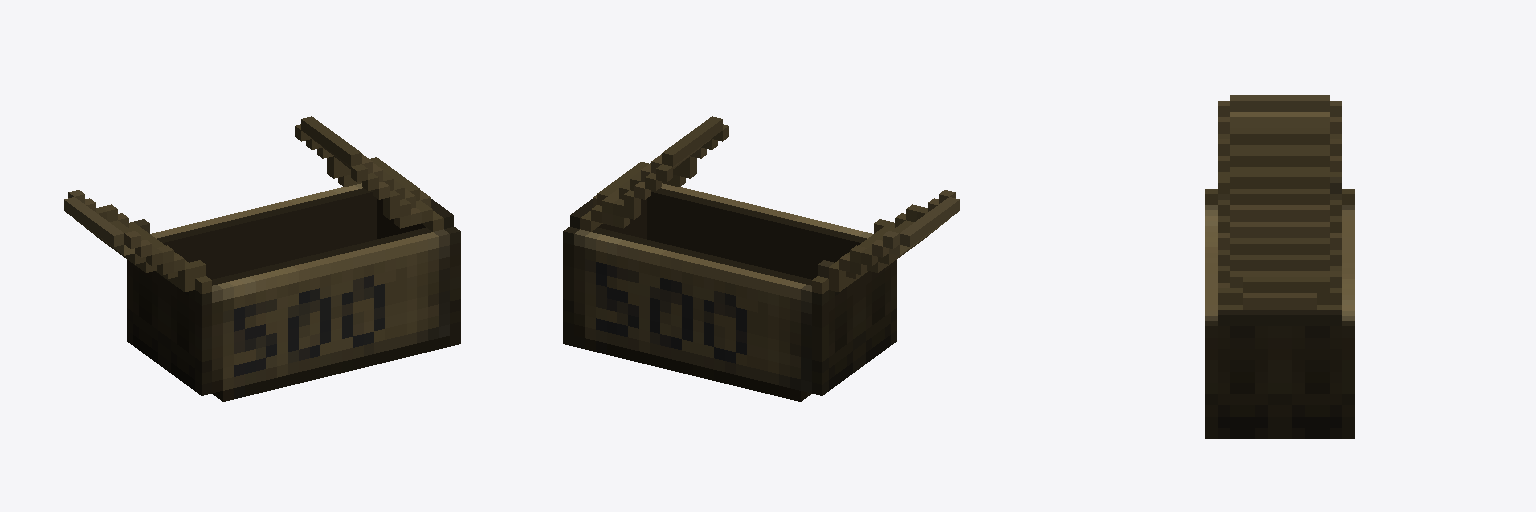
The picture shows the model from 3 angles: view 1: azimuth 30°, elevation 25°; view 2: azimuth 150°, elevation 25°; view 3: azimuth 270°, elevation 25°; orthographic projection.
Visible parts, largest first — view 1: object 1; view 2: object 1; view 3: object 1.
Boxes of the visible parts, x1=… form: object 1: x1=64, y1=116, x2=460, y2=401; object 1: x1=563, y1=116, x2=959, y2=401; object 1: x1=1205, y1=95, x2=1354, y2=438.
Size of the model in its own units: 3.1 by 1.8 by 1.2.
1 materials, 1 textured.